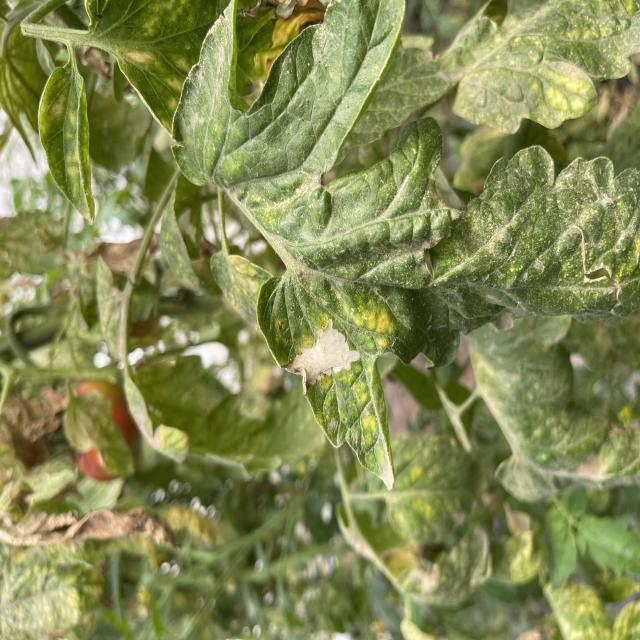Tuta absoluta: (279, 319, 362, 400)
